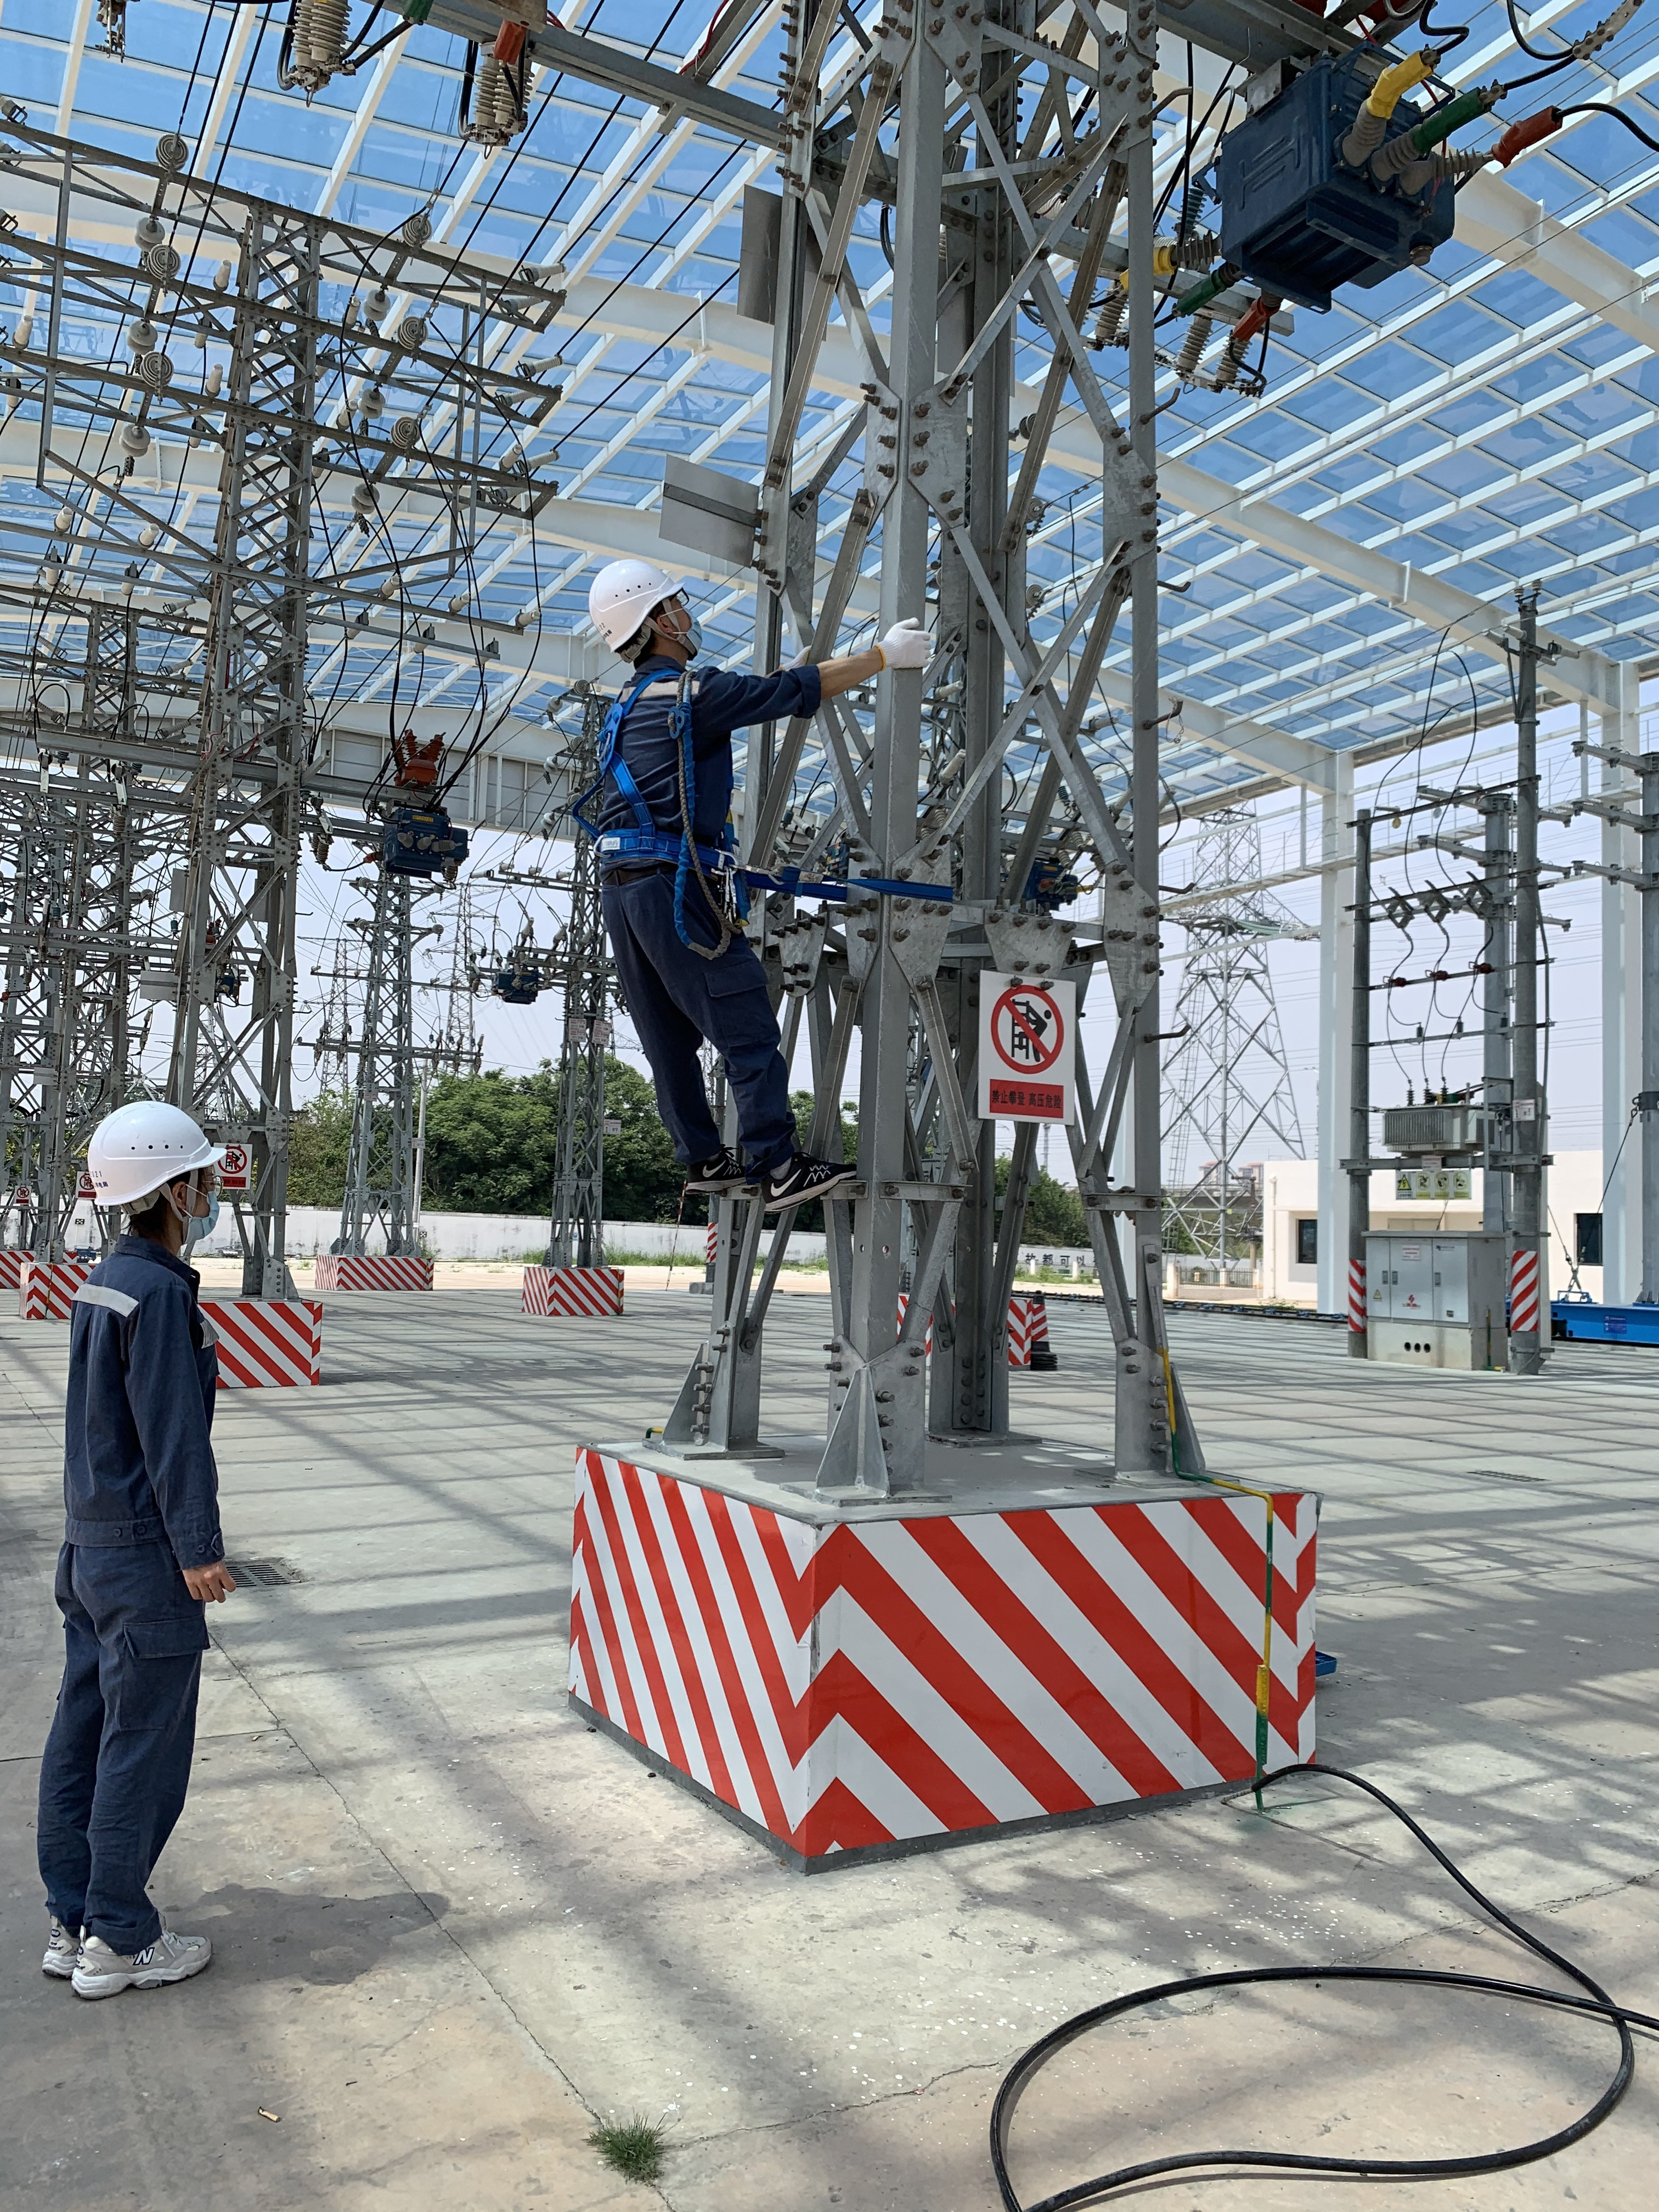downsuit: (30, 1569, 213, 1946), (594, 883, 803, 1165)
upsuit: (47, 1249, 240, 1552), (579, 660, 823, 841)
wrongtop: (793, 643, 890, 714)
